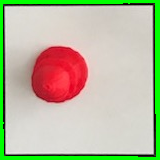Red Bishop: (23, 41, 93, 108)
